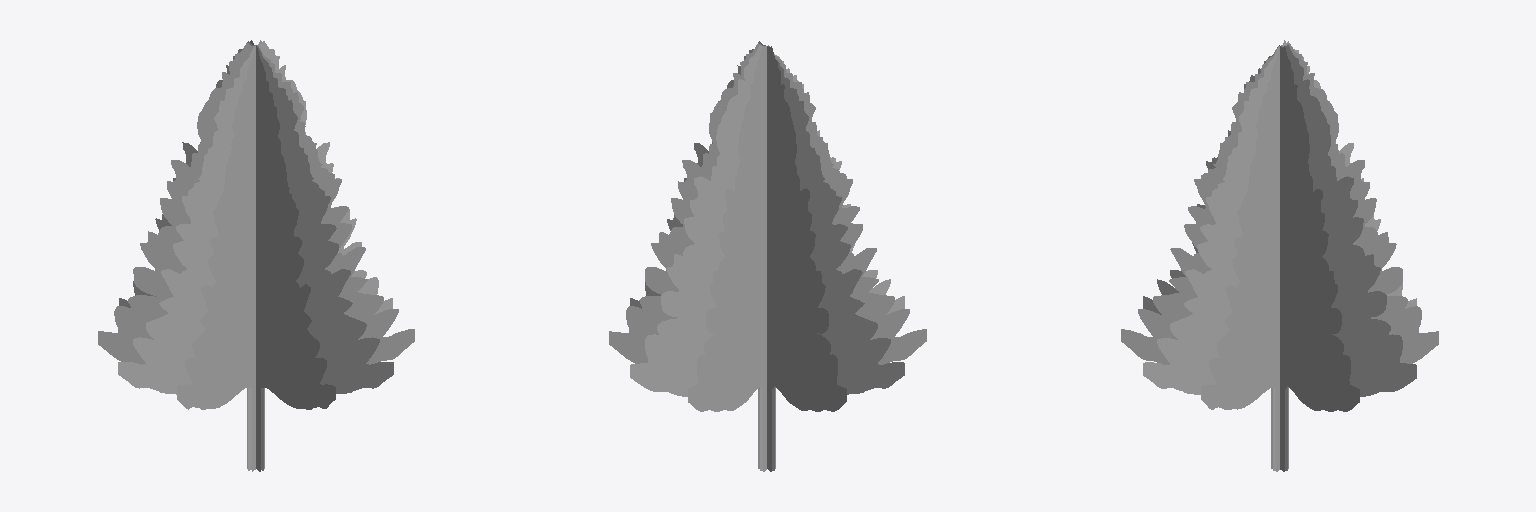
The model's file is basic-tree.obj.
3 views of the same model, side by side, from view 1: azimuth 30°, elevation 25°; view 2: azimuth 150°, elevation 25°; view 3: azimuth 270°, elevation 25° (orthographic).
Parts seen in each view (by area): view 1: picea_abies_001; view 2: picea_abies_001; view 3: picea_abies_001.
Part boxes in pixels (left/top/right/bottom): picea_abies_001: left=98, top=40, right=414, bottom=471; picea_abies_001: left=609, top=41, right=926, bottom=471; picea_abies_001: left=1121, top=40, right=1438, bottom=471.
Bounding box in the file's own units: 4020 × 5962 × 4020.